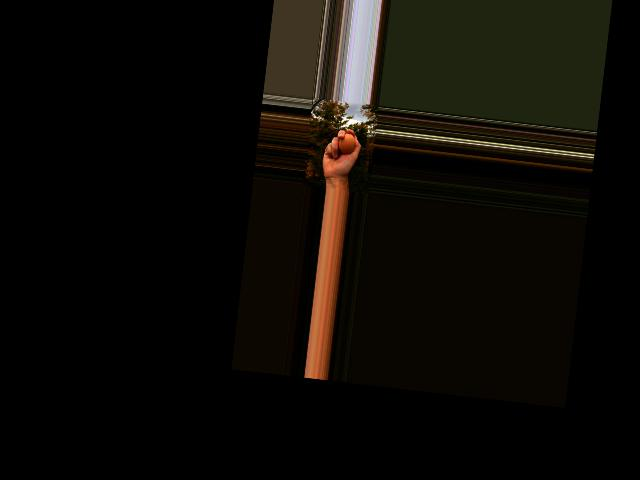egg: (336, 132, 355, 154)
